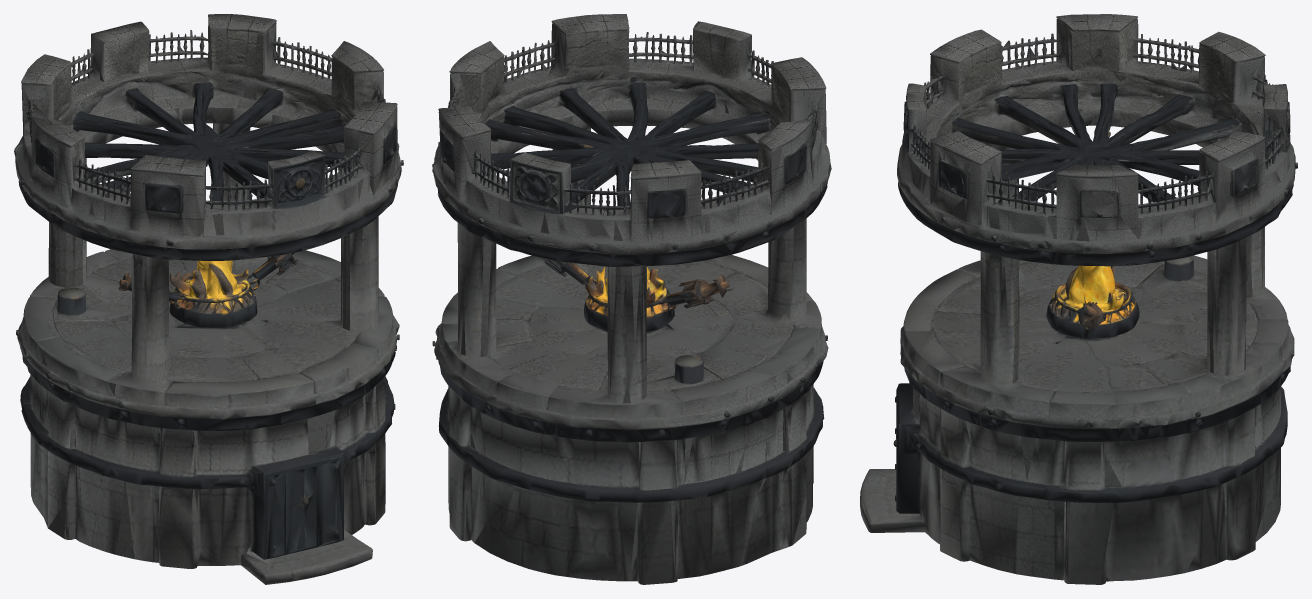
Rendered from torre-fogo-tdfende__01a163bd.glb.
The picture shows the model from 3 angles, left to right: view 1: azimuth 30°, elevation 25°; view 2: azimuth 150°, elevation 25°; view 3: azimuth 270°, elevation 25°; orthographic projection. The views are drawn at different scales.
Visible parts, largest first — view 1: torre-fogo-tdfende__01a163bd; view 2: torre-fogo-tdfende__01a163bd; view 3: torre-fogo-tdfende__01a163bd.
Boxes of the visible parts, box(x1,y1,x2,y2) form: torre-fogo-tdfende__01a163bd: box(14, 14, 403, 584); torre-fogo-tdfende__01a163bd: box(432, 14, 831, 584); torre-fogo-tdfende__01a163bd: box(860, 14, 1297, 584).
Size of the model in its own units: 10.49 by 12 by 11.59.
1 material, 1 textured.
